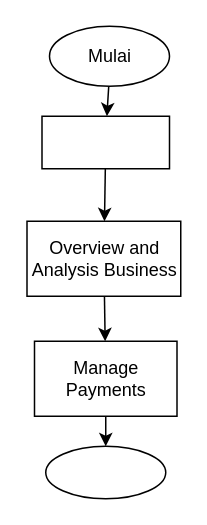
The diagram is 207 pixels wide and 525 high, and some of its shapes have lost their labels. Each missing label, with the centre of its shape:
"Login" goes at point 105,142.
"Selesai" goes at point 105,472.
